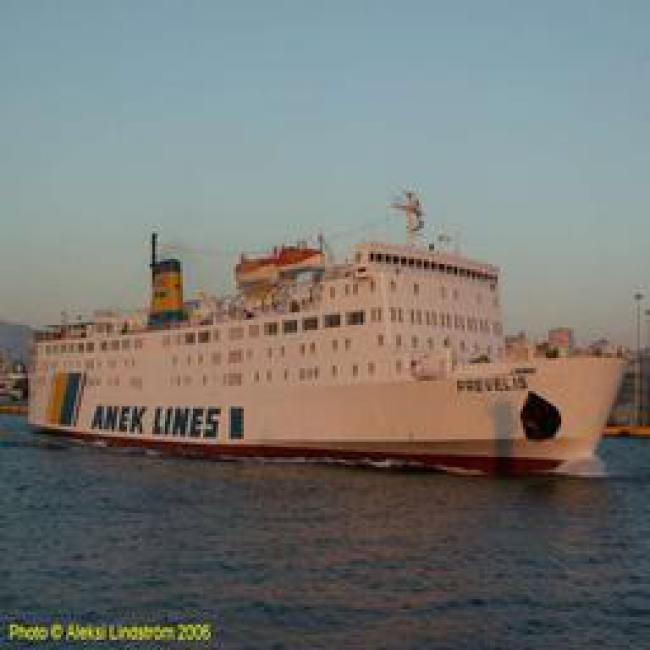Ship: (25, 266, 627, 477)
